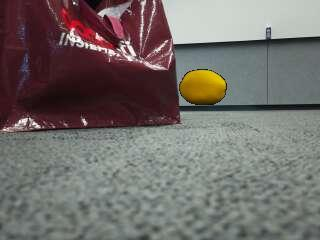lemon: (180, 70, 226, 104)
